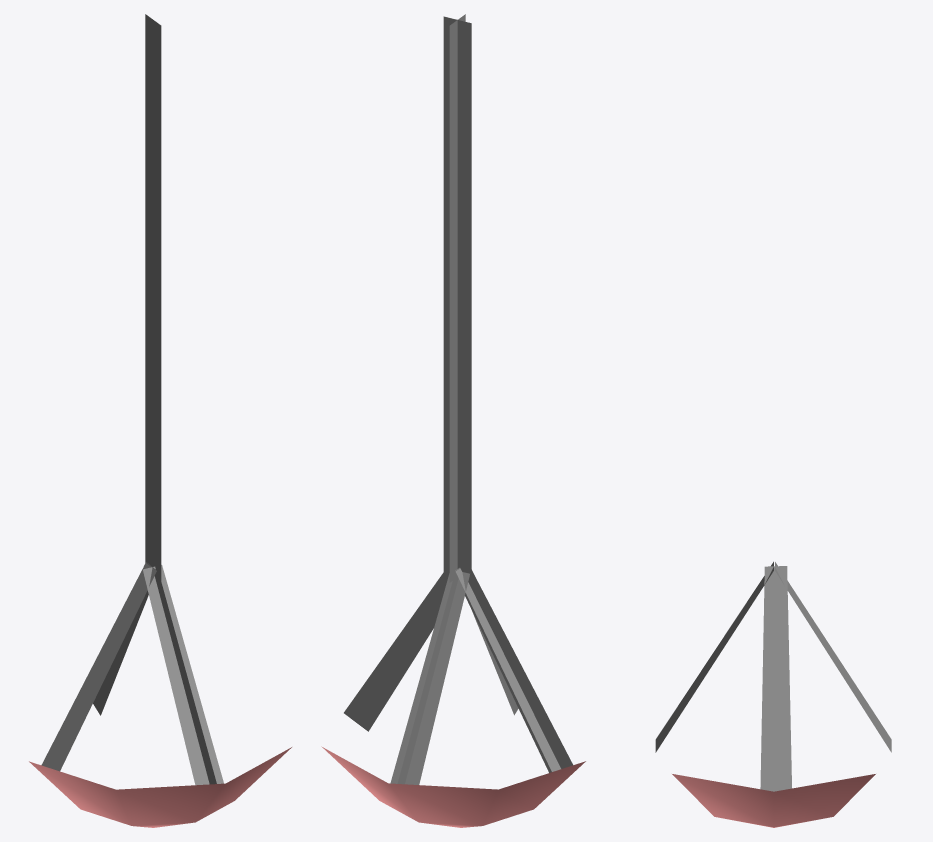
Rendered from L2fortress_01_S__fort01_command_in_obj06.gltf.
The picture shows the model from 3 angles, left to right: view 1: azimuth 30°, elevation 25°; view 2: azimuth 150°, elevation 25°; view 3: azimuth 270°, elevation 25°; orthographic projection.
Parts seen in each view (by area): view 1: fort01_command_in_obj06; view 2: fort01_command_in_obj06; view 3: fort01_command_in_obj06.
Boxes of the visible parts, box(x1,y1,x2,y2) form: fort01_command_in_obj06: box(29, 14, 291, 827); fort01_command_in_obj06: box(321, 14, 585, 827); fort01_command_in_obj06: box(655, 561, 891, 827).
Bounding box in the file's own units: 0.2406 × 0.7412 × 0.2406.
